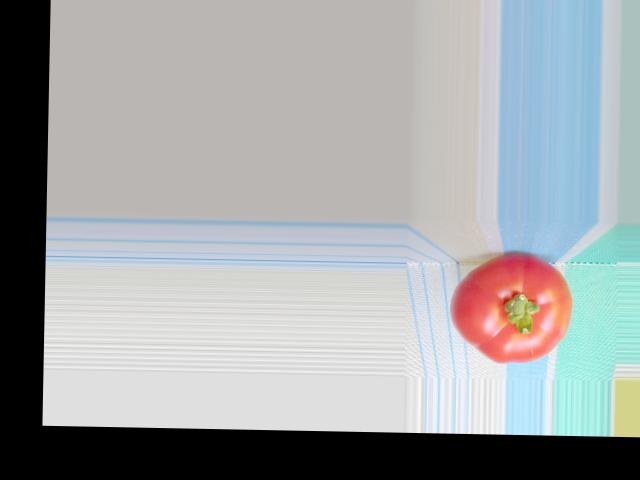tomato: (450, 251, 573, 364)
